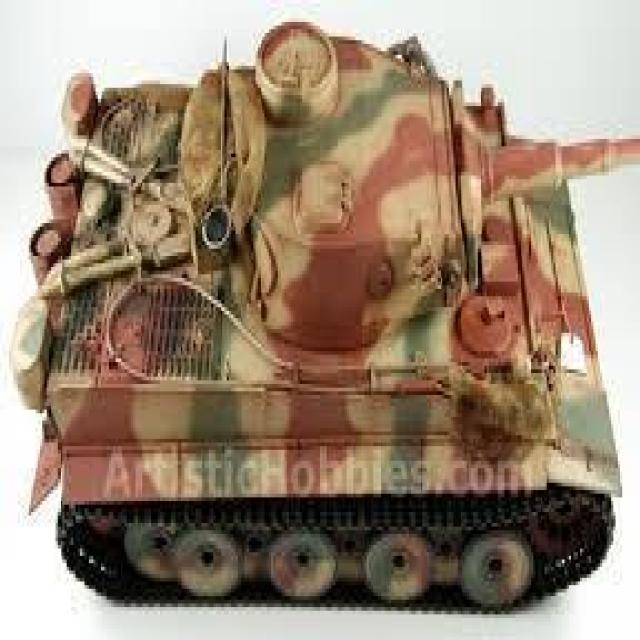Tanks: (14, 44, 624, 611)
